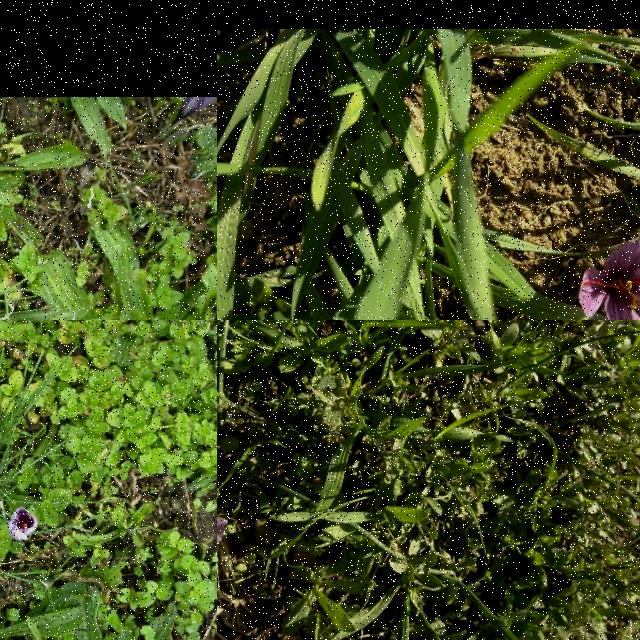flower: (579, 219, 640, 320), (8, 508, 38, 542)
